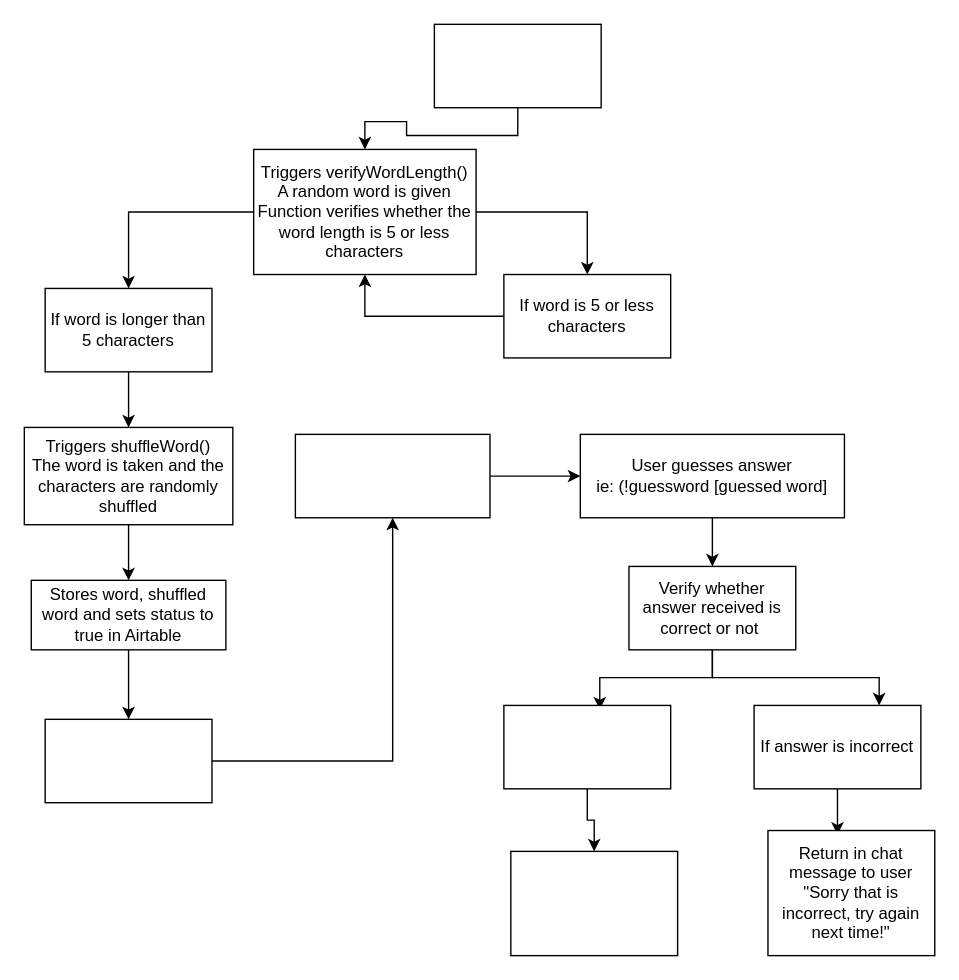
The diagram is 959 pixels wide and 980 high, and some of its shapes have lost their labels. The shapes that lost their labels are listed below. From the top down, each one's box as (x1, y1, x2, y2) in pixels, then its label:
(433, 23, 601, 108): User enters !wordgame in chat
(294, 433, 490, 518): Set limits on guesses in chat
(44, 718, 212, 803): Splashleybot sends shuffledword to chat
(502, 704, 671, 789): If answer is correct
